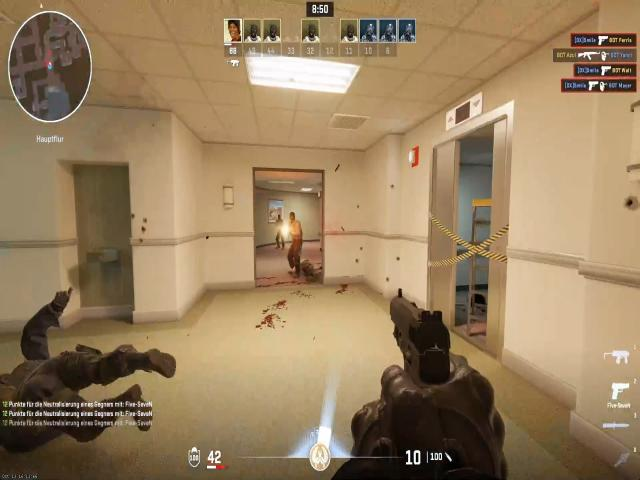Dead: (0, 302, 175, 402), (298, 256, 328, 288)
T: (287, 210, 303, 271), (274, 212, 285, 249)
T-Head: (289, 211, 297, 224), (276, 212, 284, 221)
